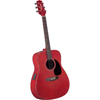guitar: (29, 1, 69, 100)
